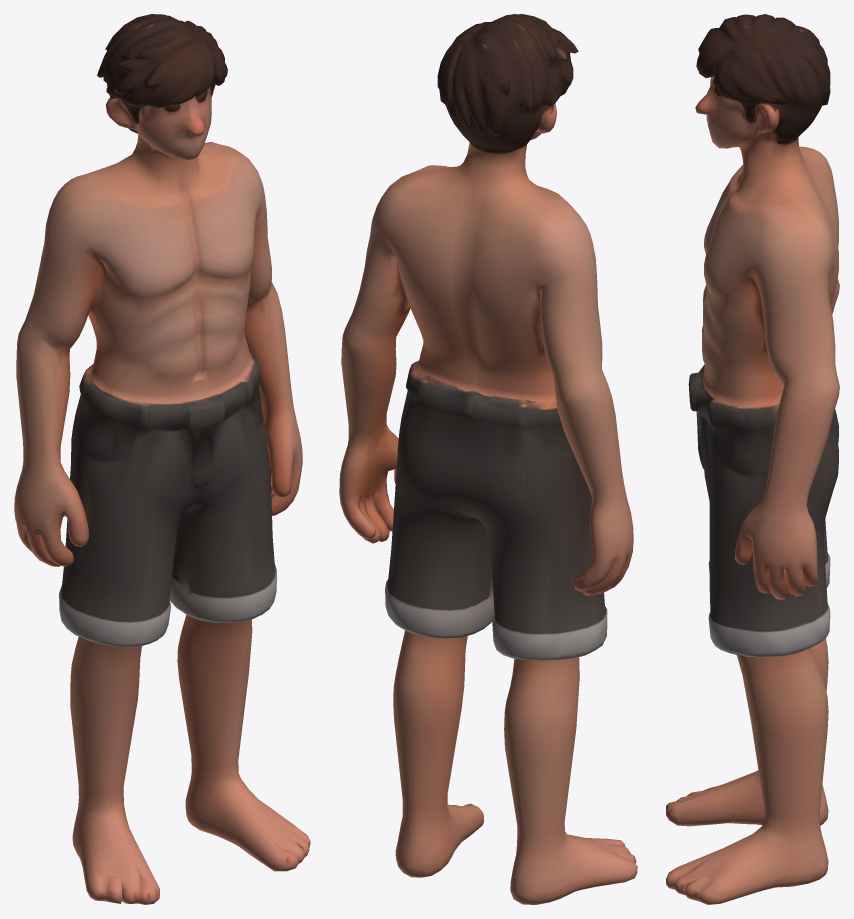
Rendered from Ruins__collapsed_b5f96b18_v2.cluster.glb.
3 renders of one model, left to right at view 1: azimuth 30°, elevation 25°; view 2: azimuth 150°, elevation 25°; view 3: azimuth 270°, elevation 25°, orthographic. The views are drawn at different scales.
Parts seen in each view (by area): view 1: material; view 2: material; view 3: material.
Part boxes in pixels (x1,y1,x2,y2): material: (14,14,310,904); material: (339,14,637,904); material: (666,14,839,904).
Size of the model in its own units: 0.6542 by 1.9 by 0.3593.
Materials: 1 (1 with a texture image).
